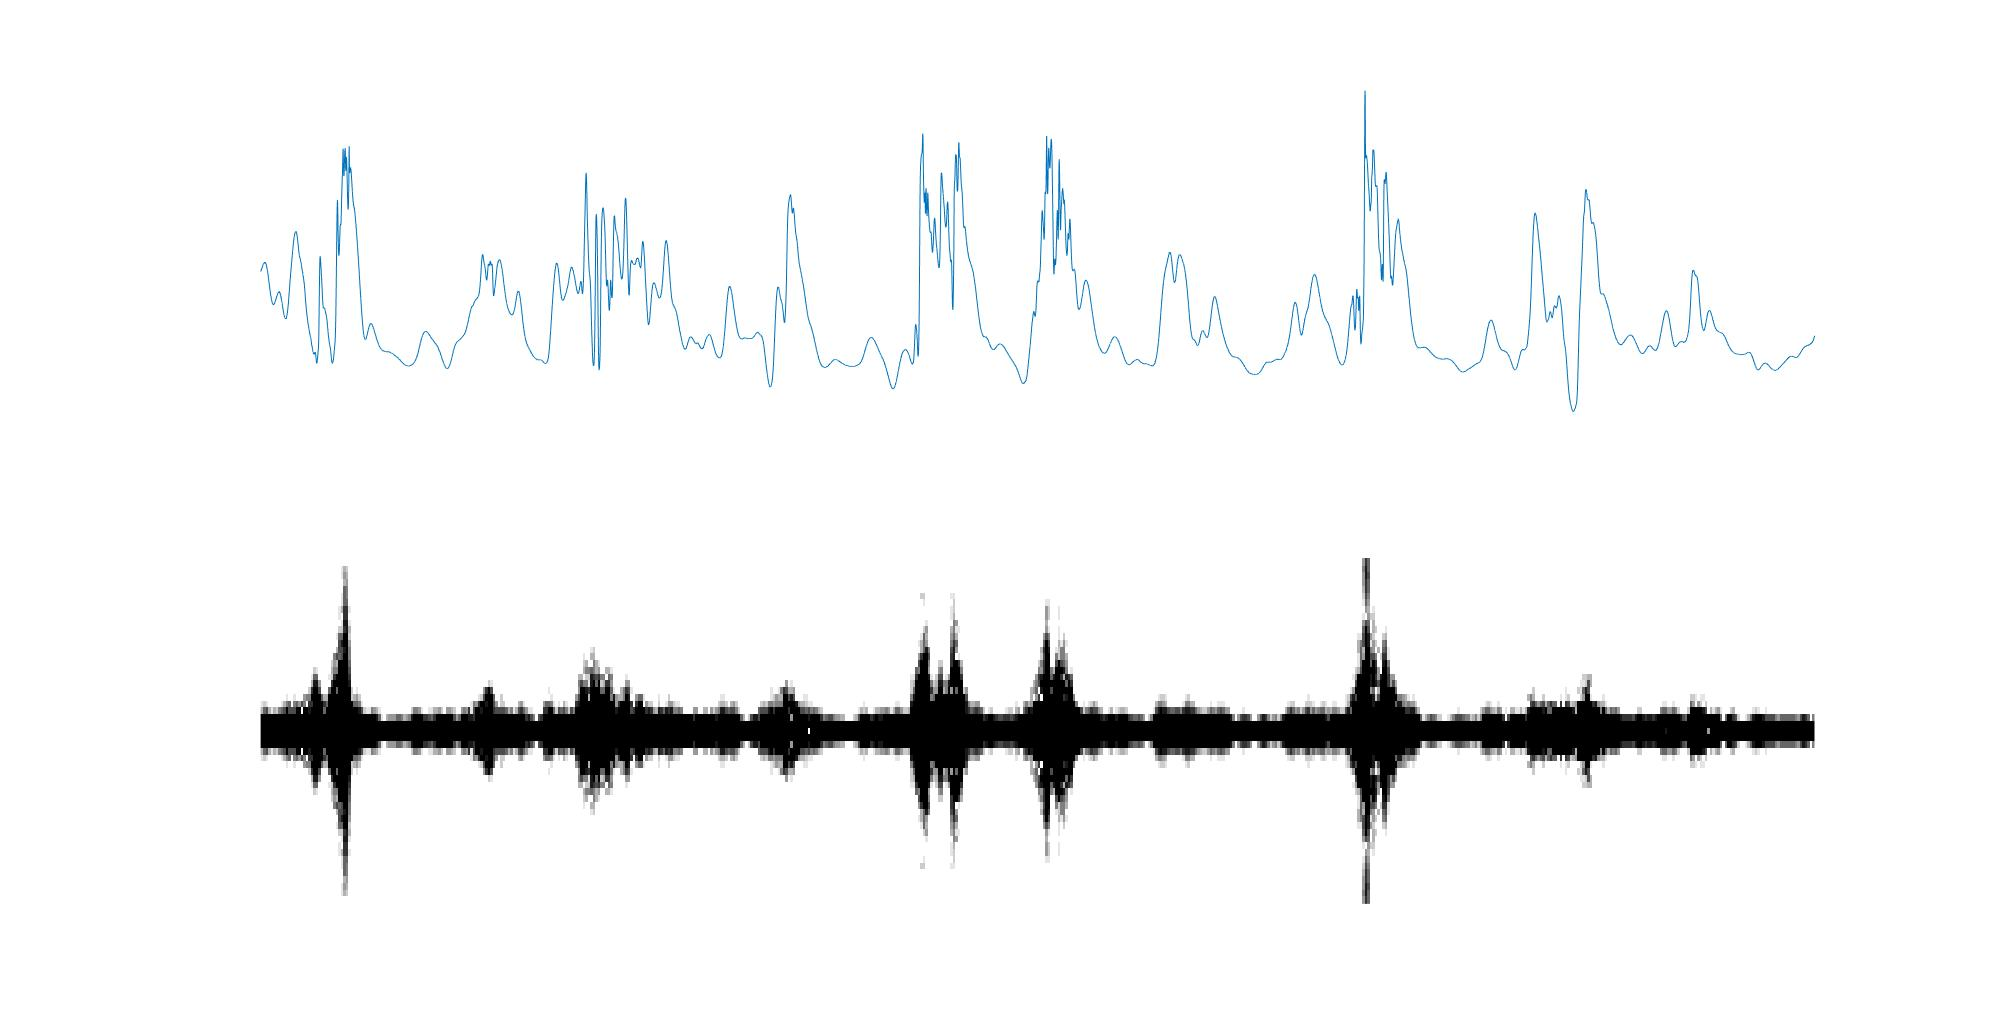spot: (901, 608, 968, 864), (1030, 604, 1082, 857), (326, 568, 357, 892)
